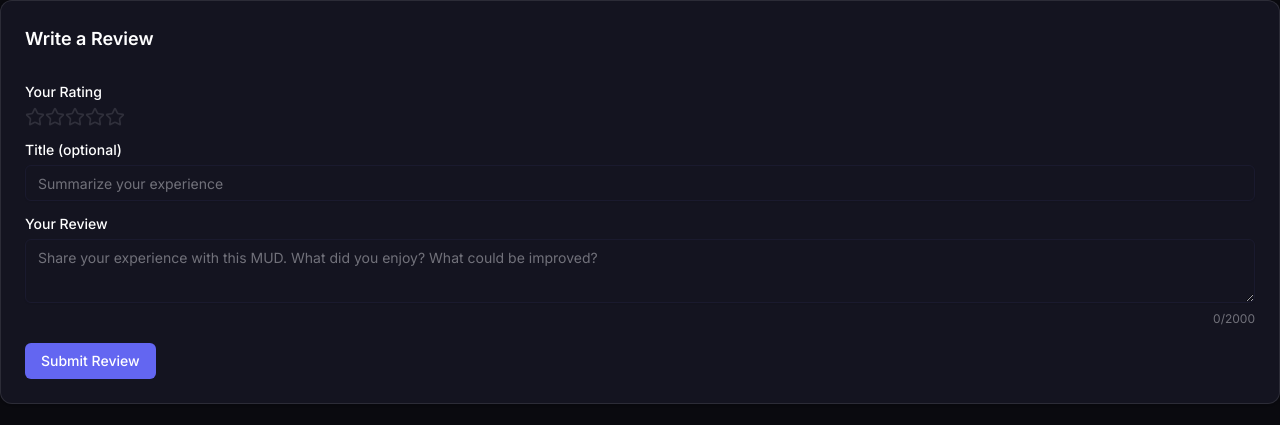
Test: ReviewForm › shows validation error when review body is empty
The width and height of the screenshot is (1280, 425).
Click on a star to set rating
Click the 4th button. click: (95, 117)
box: [85,107,105,127]
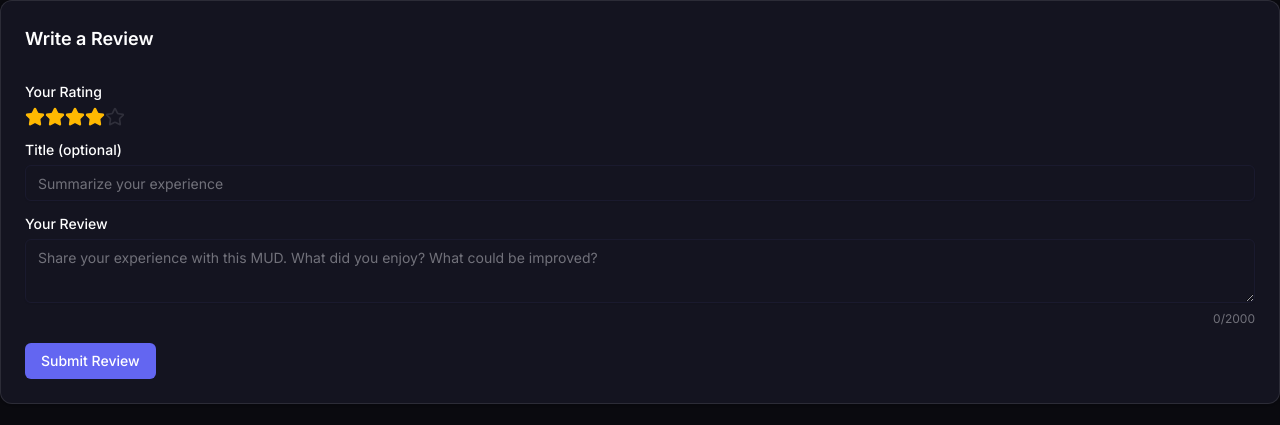
Click the button "Submit Review". click: (90, 361)
box: [25,343,156,379]
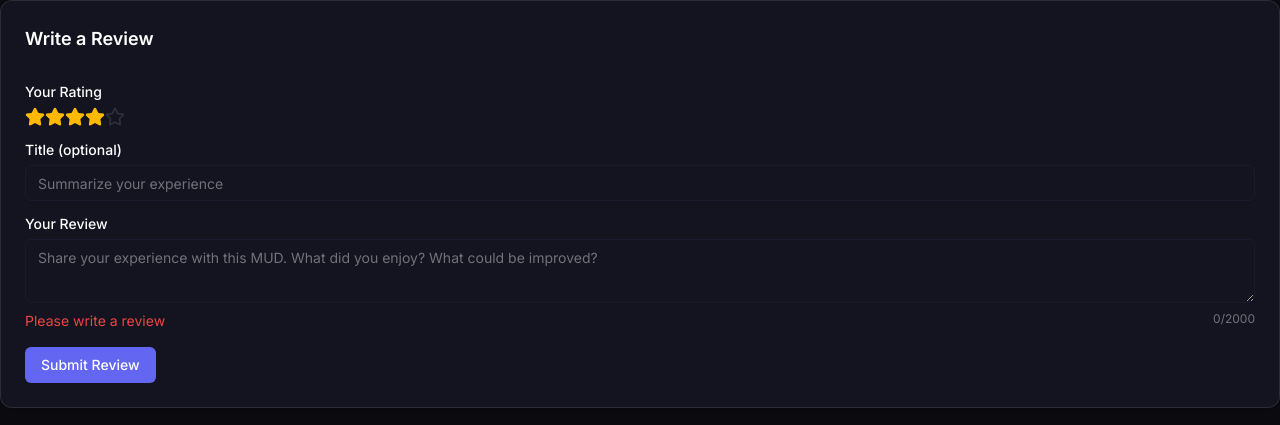
Expected: the text "Please write a review" is shown, [25,311,165,331]
